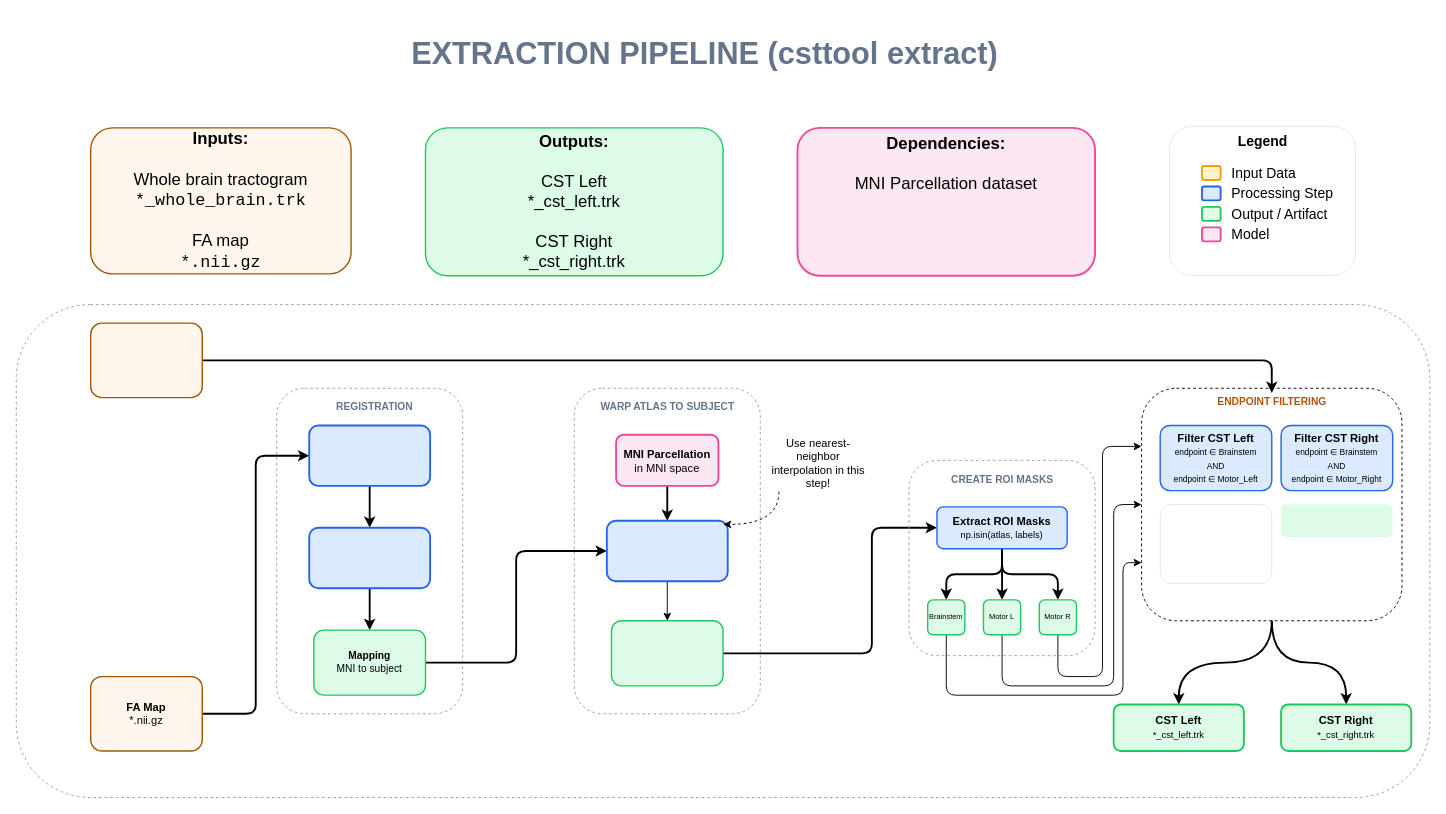
This 1446x814 diagram has some shape labels left out. Here are the shapes that lost their labels. From the top down, the box of each, then its label:
(90, 322, 203, 398): Whole Brain Tractogram *_whole_brain.trk
(308, 424, 431, 486): MNI template fetch_mni_template() Contrast: FA
(1281, 504, 1392, 537): ✓ Checks both directions: start↔end reversible
(308, 526, 431, 589): Affine + SyN Registration MNI to subject
(605, 519, 728, 582): Apply mapping to atlas labels
(1159, 504, 1272, 584): endpoints_in_rois( streamline, brainstem_mask, motor_mask, affine )
(610, 620, 723, 686): Atlas in subject space
